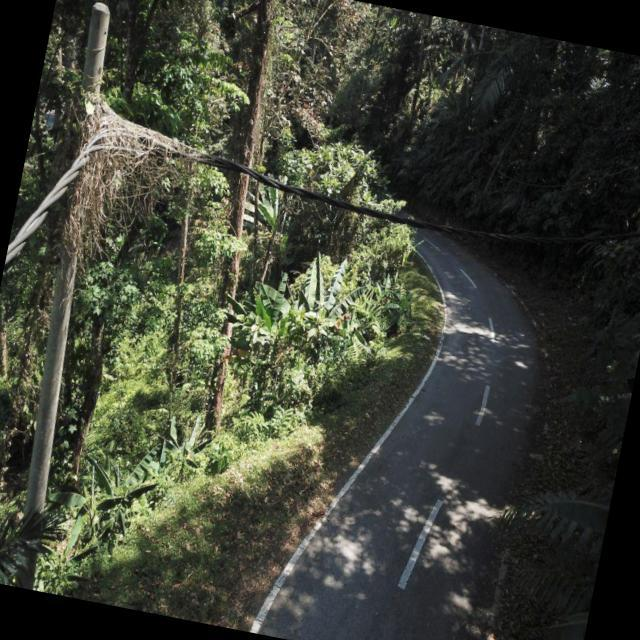critical vegetation: (32, 80, 212, 298)
